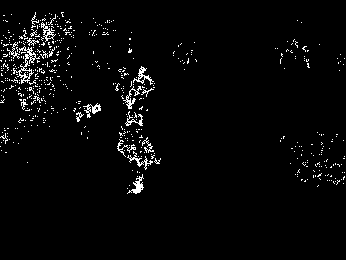person: (119, 115, 158, 199), (131, 63, 156, 129), (115, 64, 135, 123)
